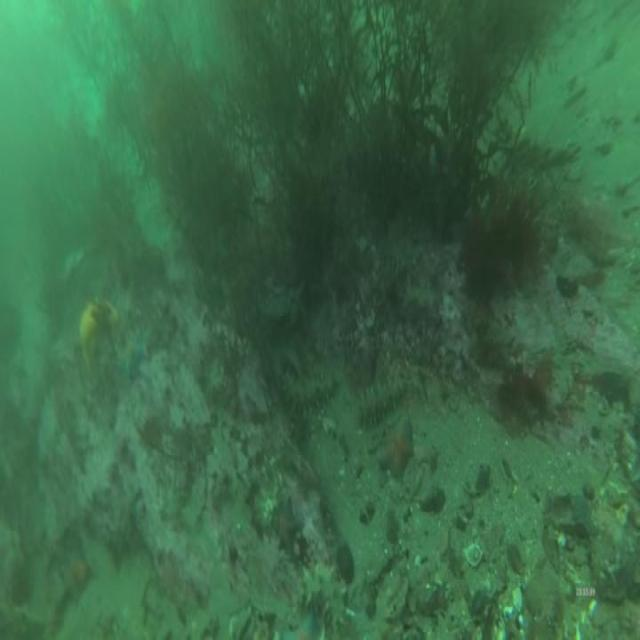holothurian: (292, 554, 359, 640), (279, 362, 341, 411), (358, 376, 411, 427)
starfish: (378, 421, 415, 484), (114, 322, 154, 374)
waterweeds: (55, 2, 553, 302)
